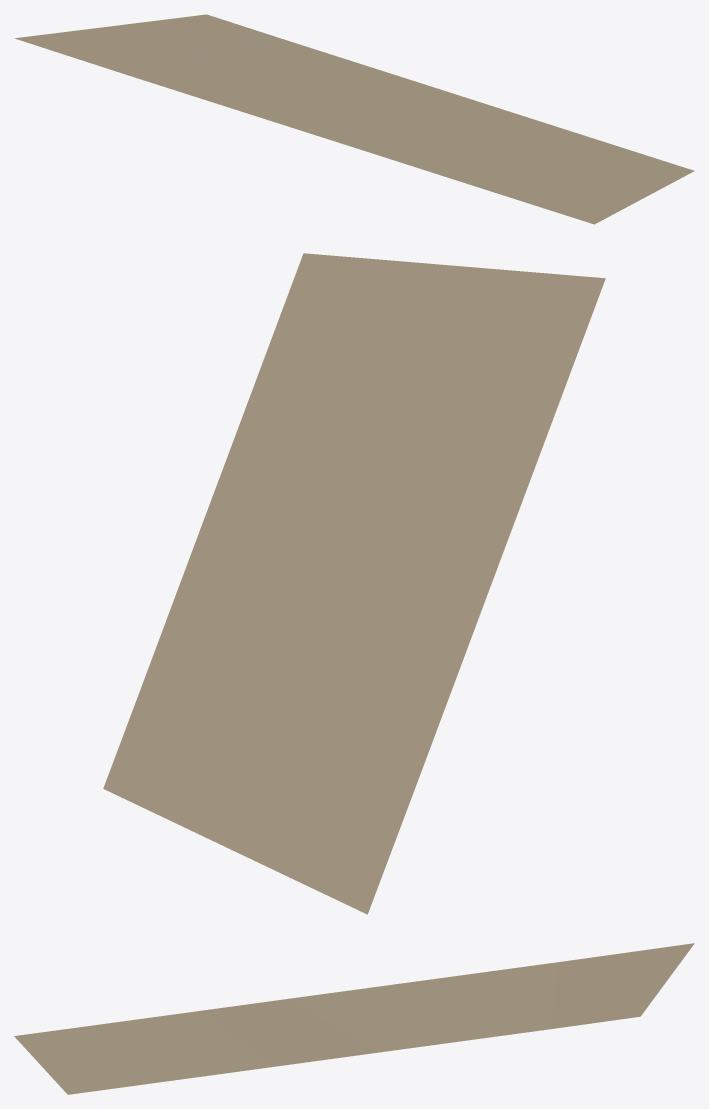
File: farm_12_15_track.glb
3 renders of one model, top to bottom at view 1: azimuth 30°, elevation 25°; view 2: azimuth 150°, elevation 25°; view 3: azimuth 270°, elevation 25°, orthographic. The views are drawn at different scales.
Parts seen in each view (by area): view 1: geometry_0; view 2: geometry_0; view 3: geometry_0.
Boxes of the visible parts, bbox=[...] form: geometry_0: bbox=[14, 14, 694, 224]; geometry_0: bbox=[103, 253, 605, 914]; geometry_0: bbox=[14, 943, 694, 1094].
Bounding box in the file's own units: 8.54 × 0.3987 × 14.58.
